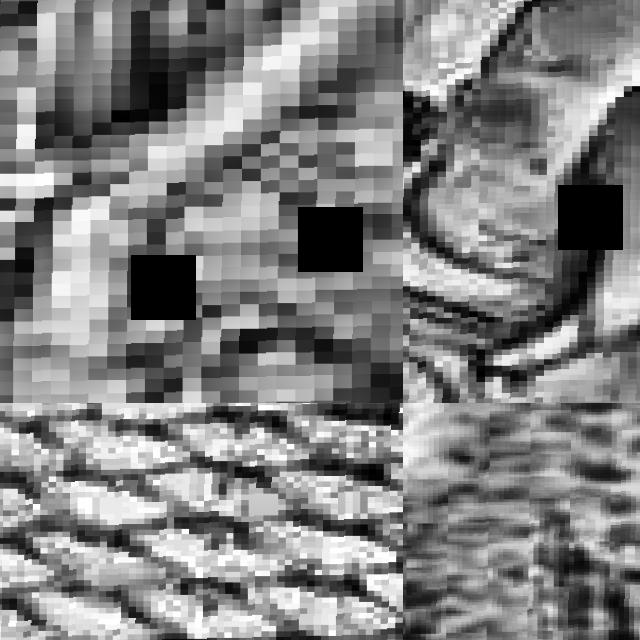crab: (0, 0, 403, 403), (403, 0, 640, 403)
fish: (0, 403, 403, 640), (403, 403, 640, 640)
